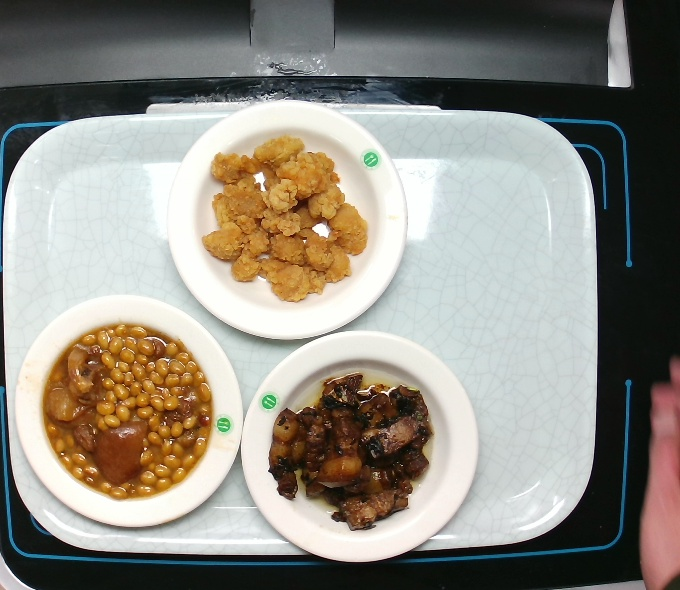wcq-GanCaiRou: (263, 366, 437, 533)
wcq-HuangDouZhuJiao: (37, 318, 220, 506)
wcq-JiMiHua: (198, 131, 373, 305)
